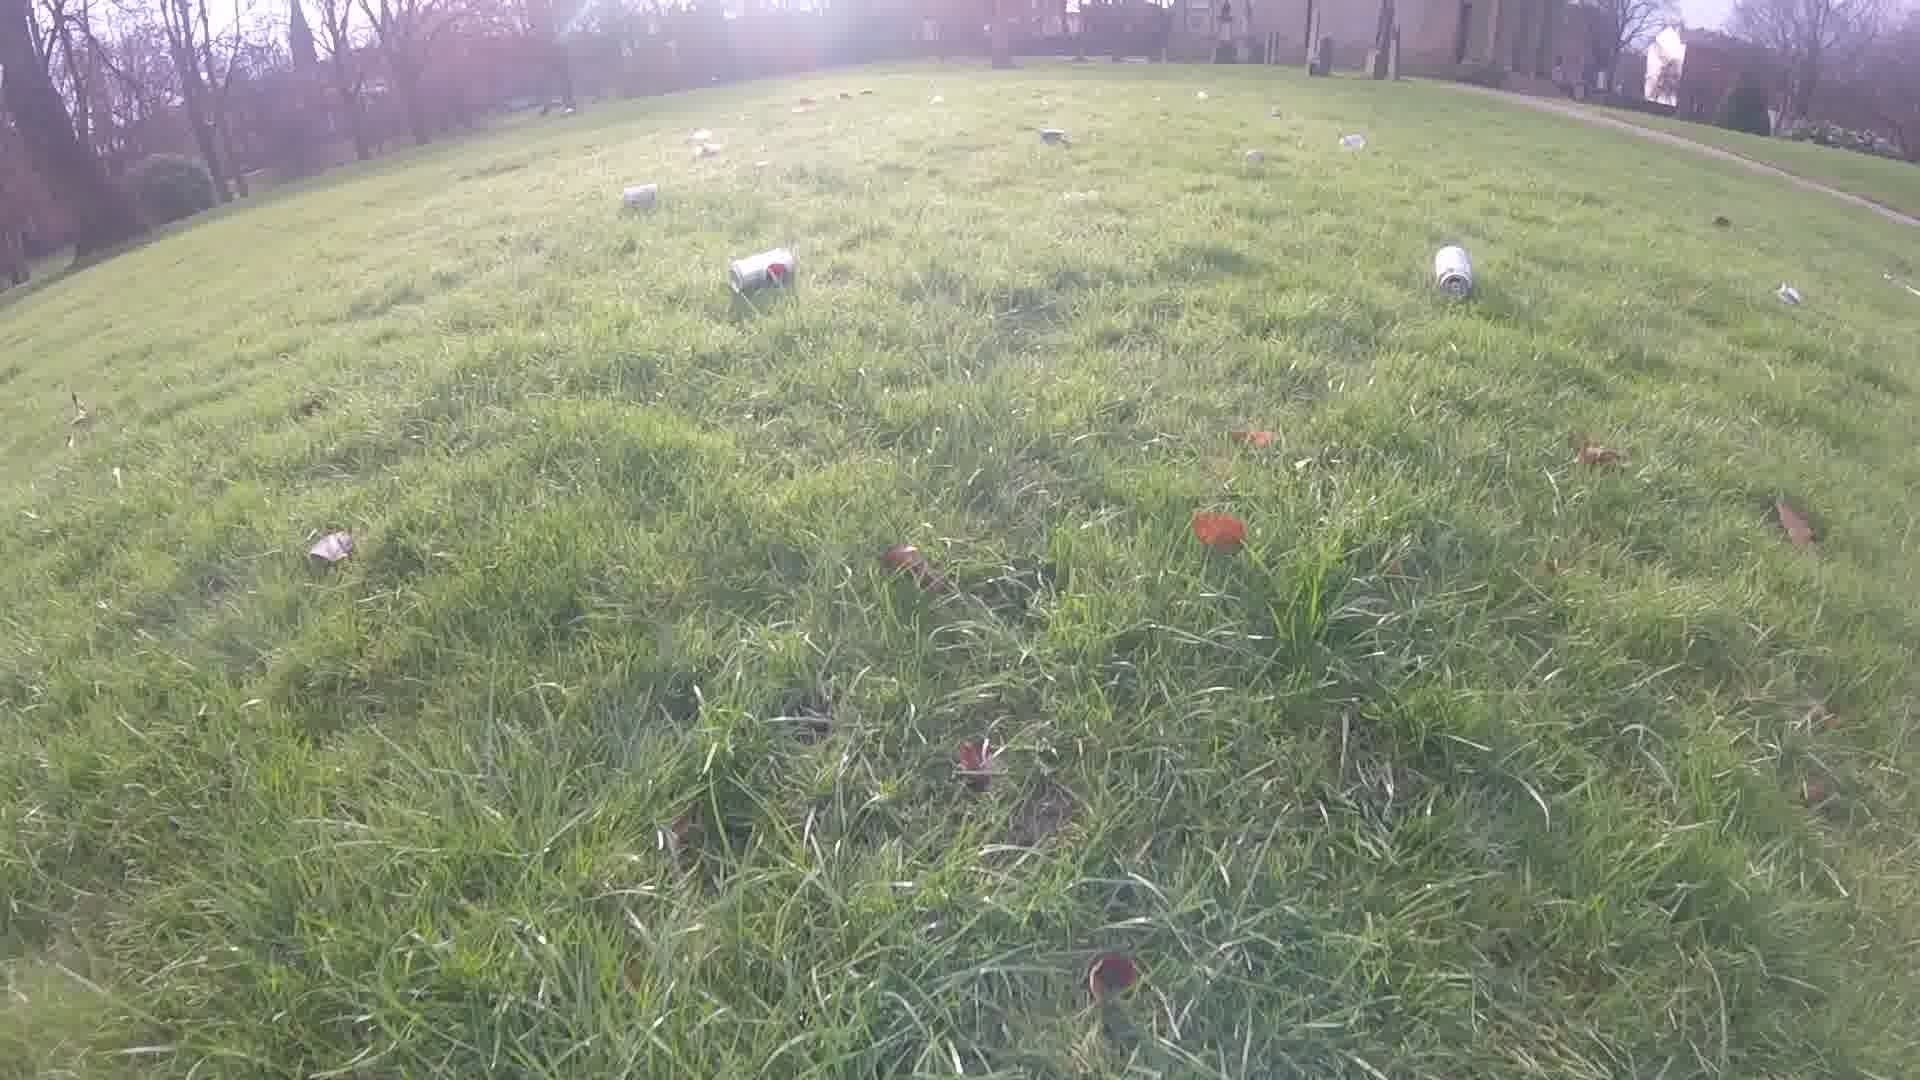litter: (732, 248, 790, 285), (1429, 243, 1468, 298), (613, 181, 665, 214), (683, 128, 723, 160), (1764, 280, 1800, 303), (785, 95, 819, 112), (836, 87, 874, 100), (1329, 135, 1365, 148), (1039, 128, 1064, 142), (923, 92, 949, 105), (1236, 149, 1261, 162), (1706, 214, 1731, 225), (1193, 92, 1215, 102)
